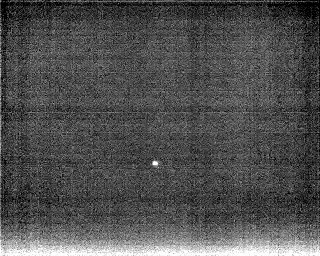AIRPLANE: (150, 158, 161, 170)
